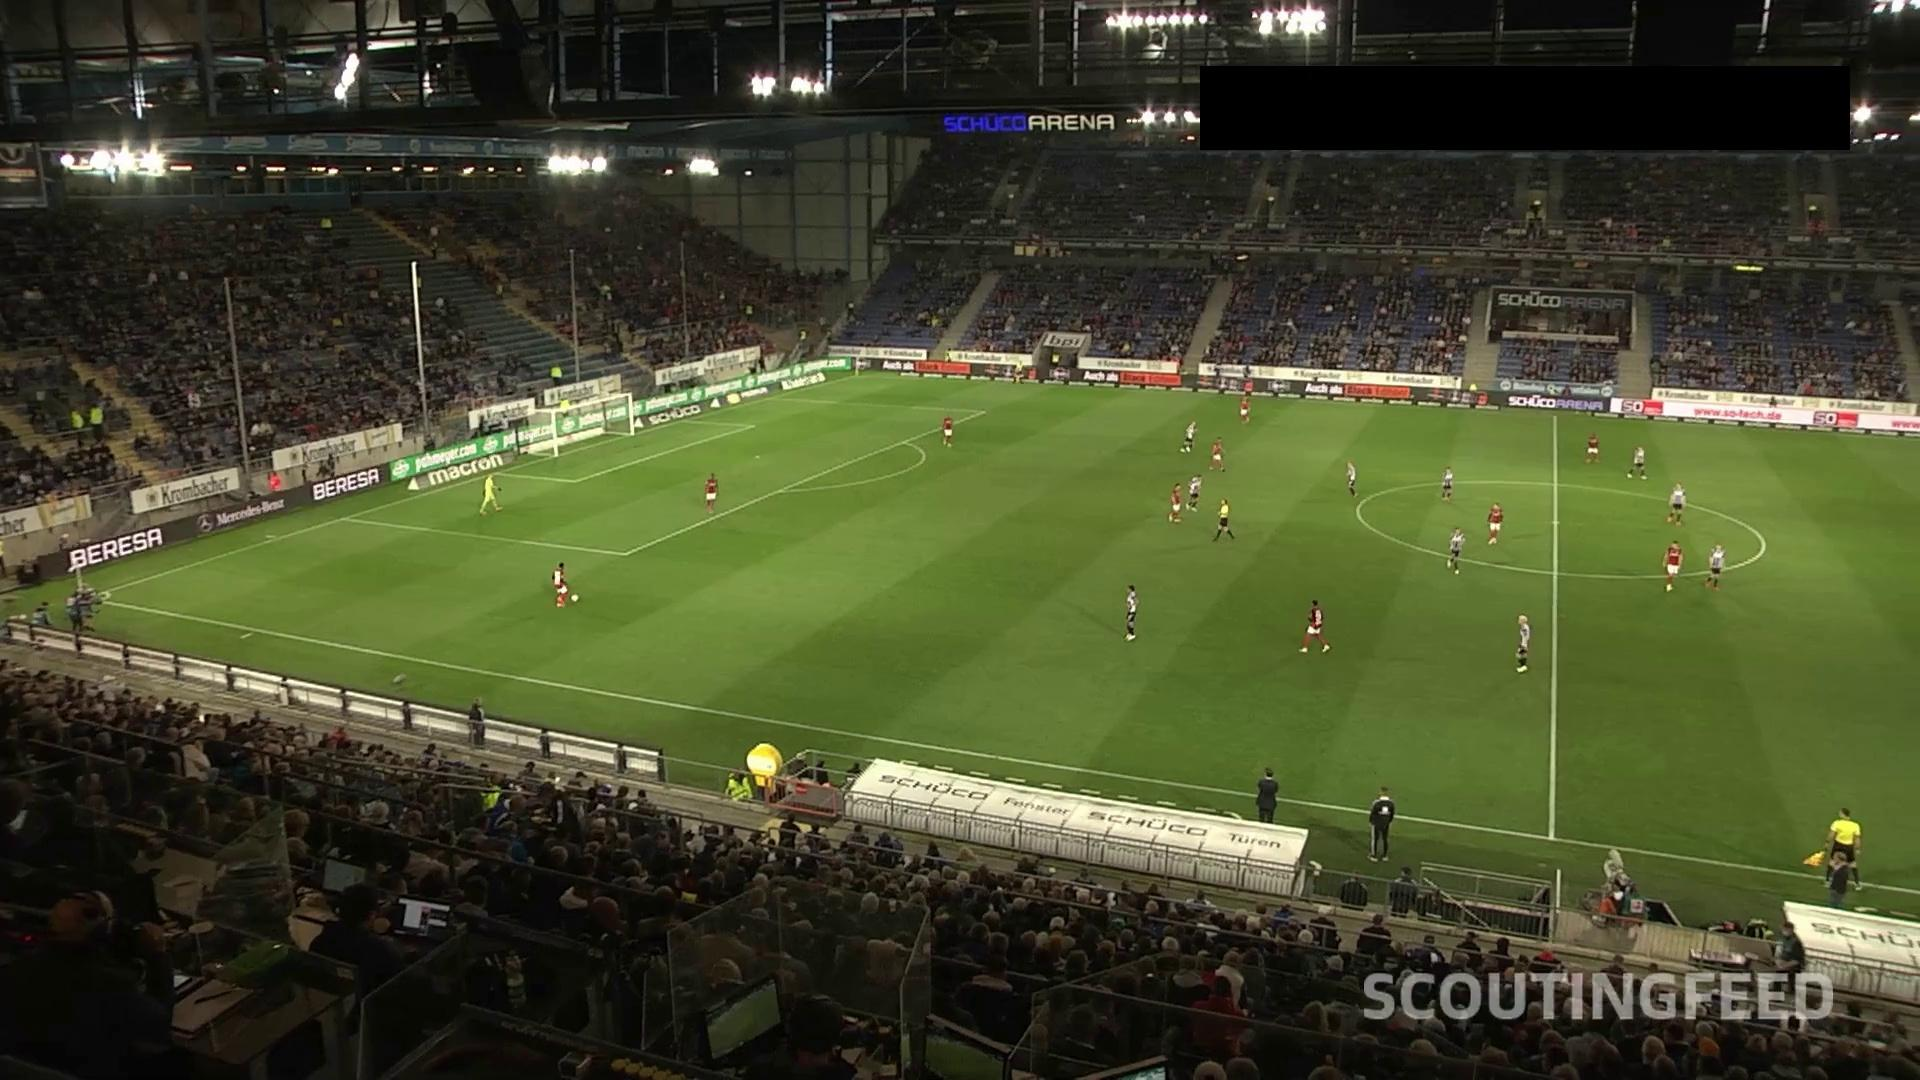Location-of-ball: (567, 589, 589, 605)
